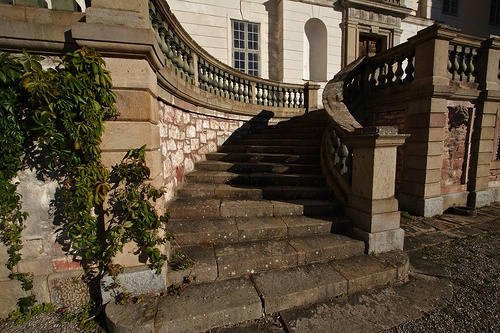stairs_up: (164, 127, 403, 309)
